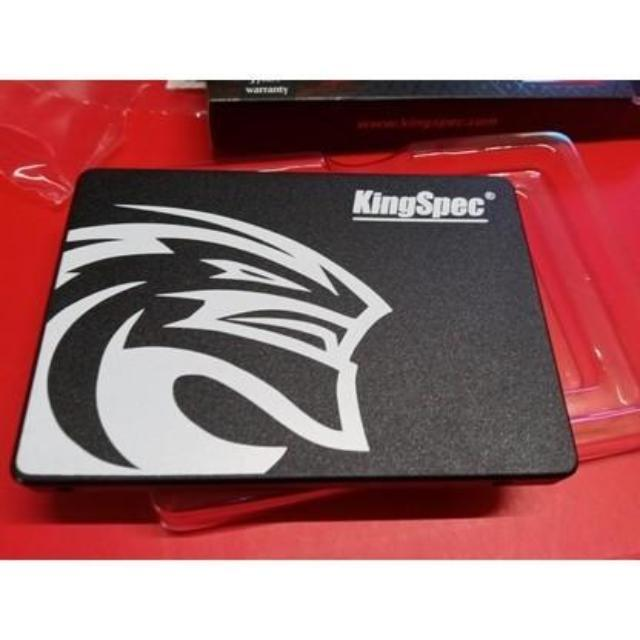DISK: (9, 157, 592, 495)
